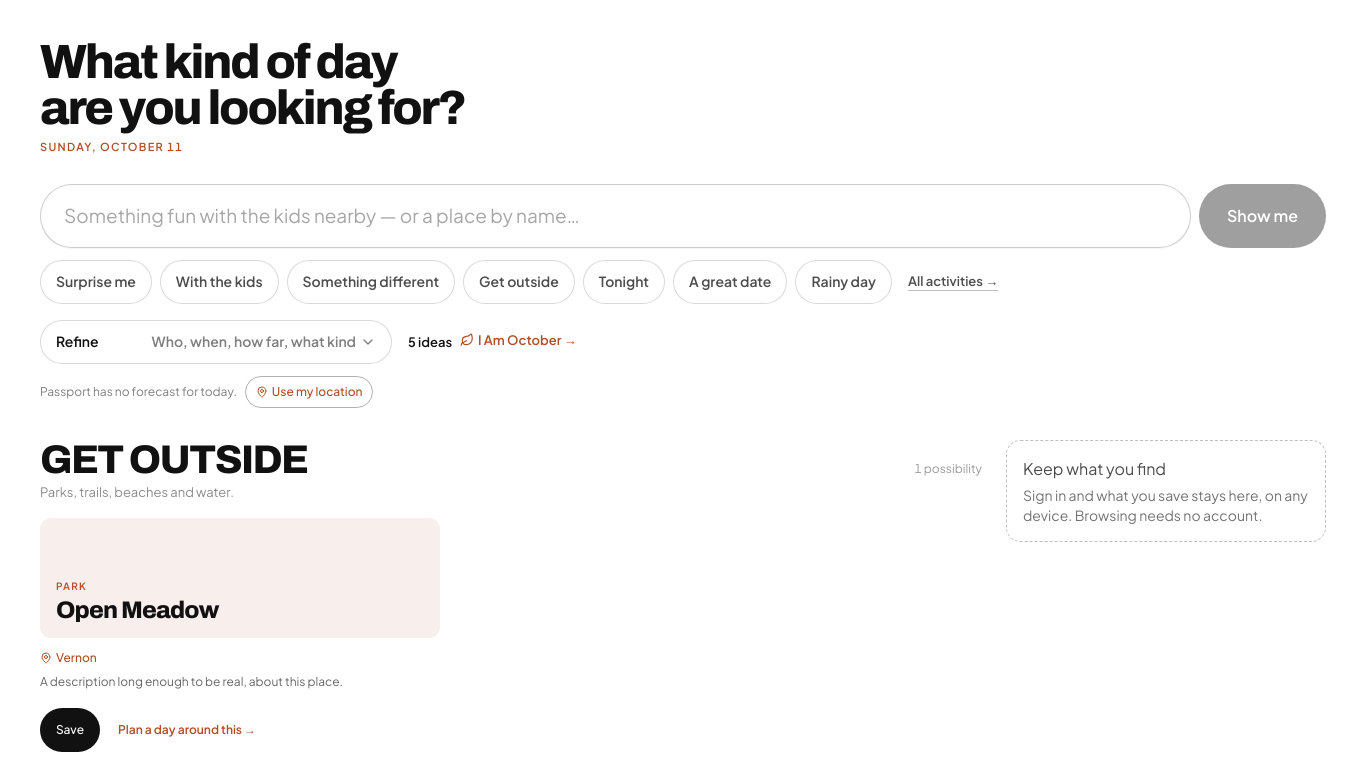
Test: one conversation › answers without the model: the words alone are enough
Type "Something fun with my daughter." into the field with test id "ask-input" at (616, 216), box [40,184,1191,248]
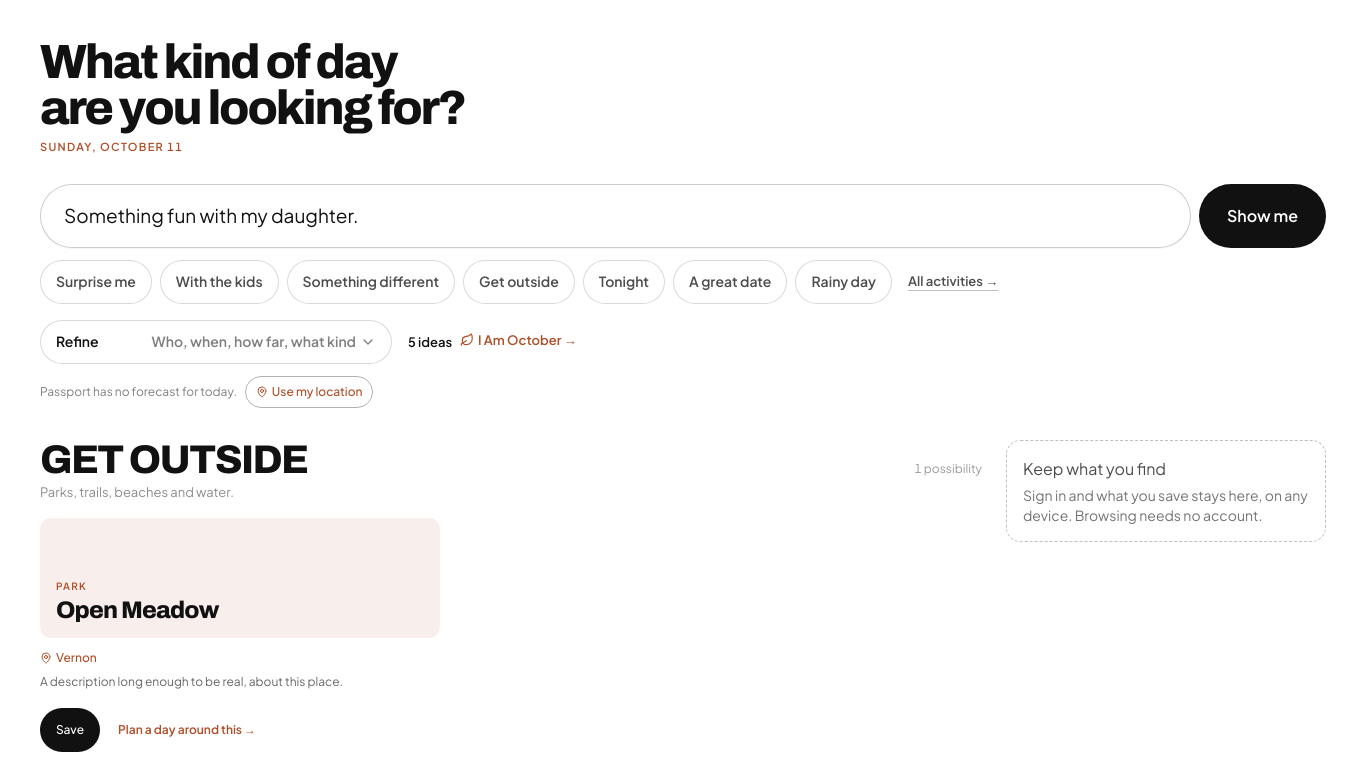
Click the button with test id "ask-submit" at (1262, 216), box [1199,184,1326,248]
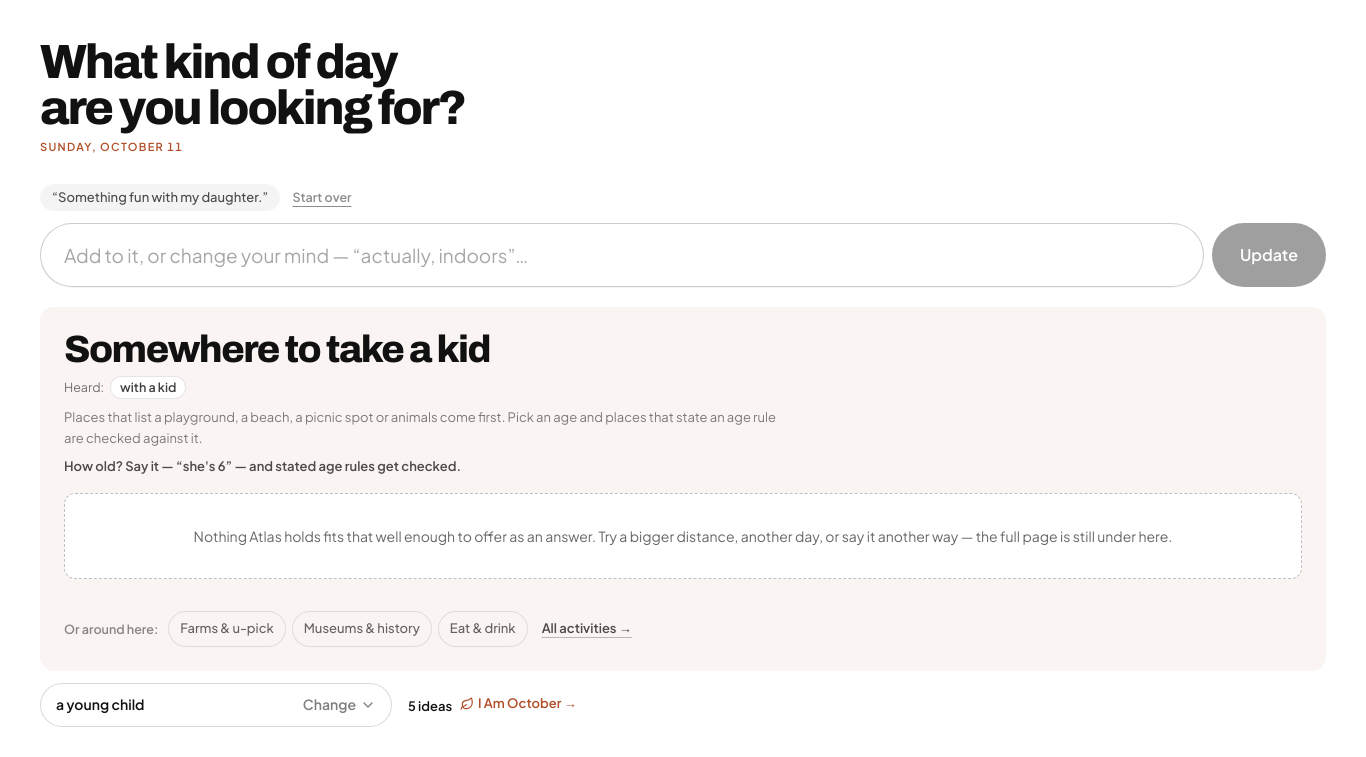
Expected: the element with test id "ask-answer" is shown, [40,307,1326,671]
